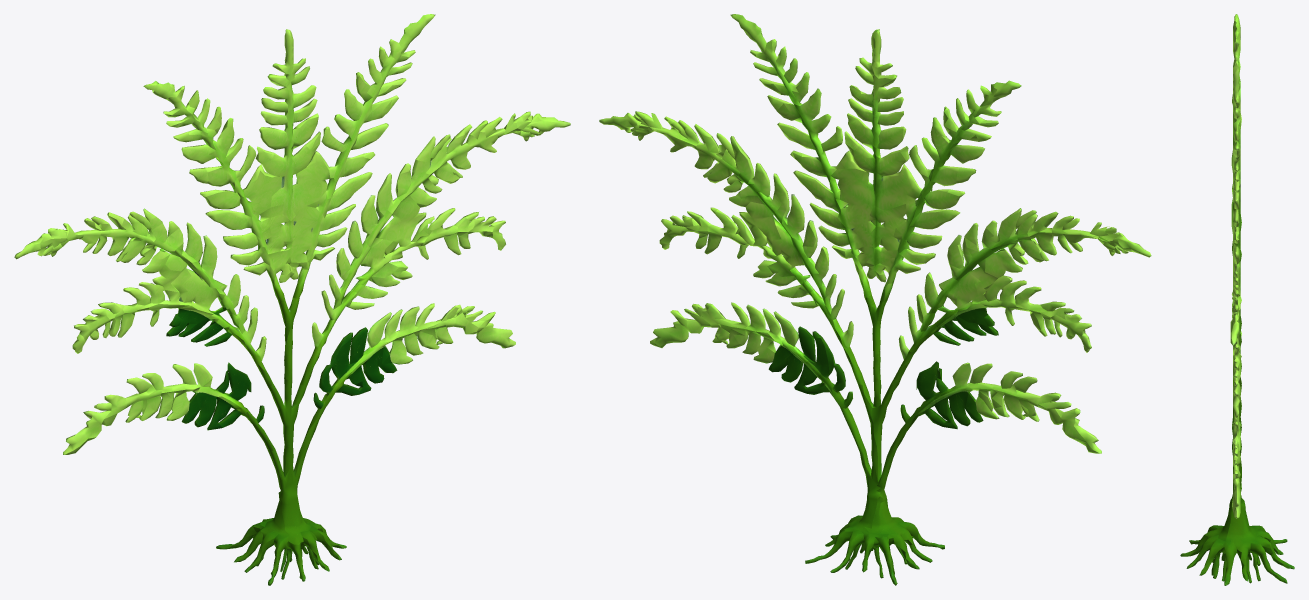
The model's file is ground_fern.glb.
3 views of the same model, side by side, from view 1: azimuth 30°, elevation 25°; view 2: azimuth 150°, elevation 25°; view 3: azimuth 270°, elevation 25° (orthographic). The views are drawn at different scales.
Size of the model in its own units: 1.89 by 1.77 by 0.3562.
Materials: 1 (1 with a texture image).
